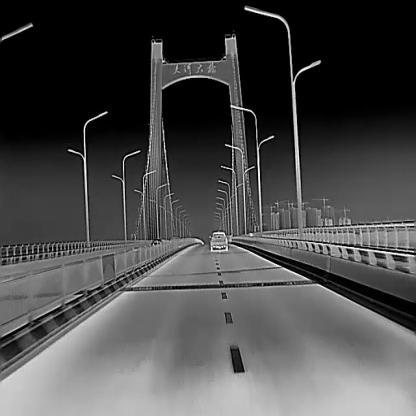car: (209, 231, 227, 250), (151, 238, 161, 245)
